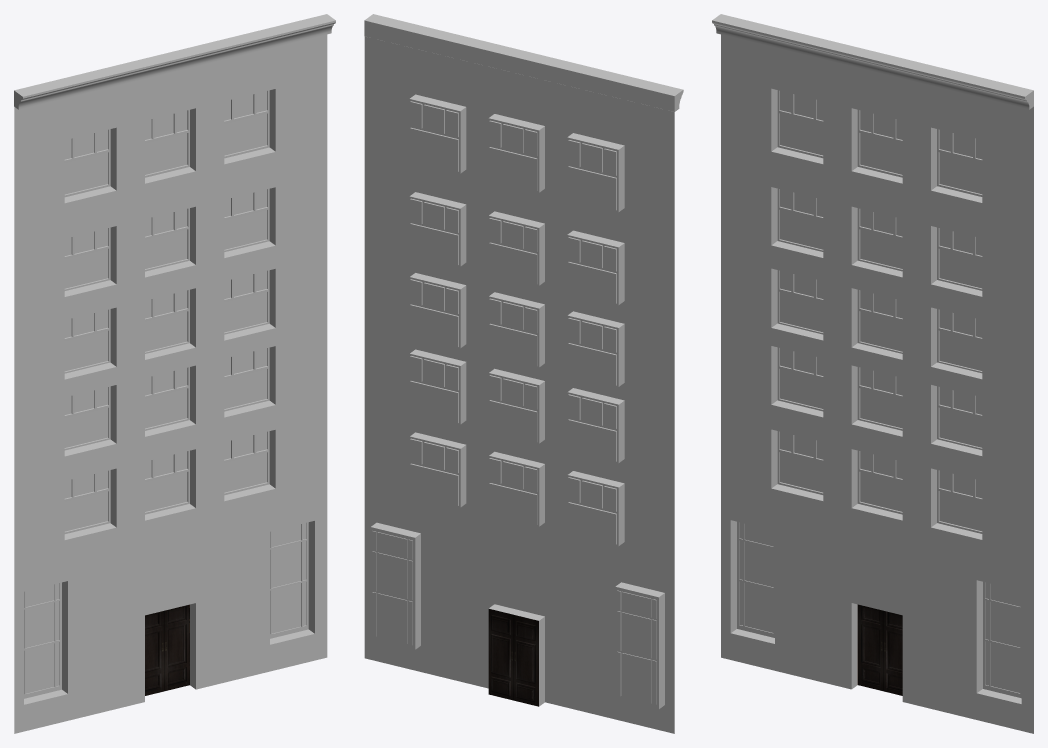
File: Classic_house_Front_sm.FBX
The picture shows the model from 3 angles, left to right: view 1: azimuth 30°, elevation 25°; view 2: azimuth 150°, elevation 25°; view 3: azimuth 330°, elevation 25°; orthographic projection.
Visible parts, largest first — view 1: Classic_house_Front_sm_LOD0; view 2: Classic_house_Front_sm_LOD0; view 3: Classic_house_Front_sm_LOD0.
Part boxes in pixels (x1,y1,x2,y2): Classic_house_Front_sm_LOD0: [14, 14, 335, 733]; Classic_house_Front_sm_LOD0: [364, 14, 683, 733]; Classic_house_Front_sm_LOD0: [712, 14, 1033, 733].
Size of what is drawn, in the model's own units: 2601 by 232 by 5109.
